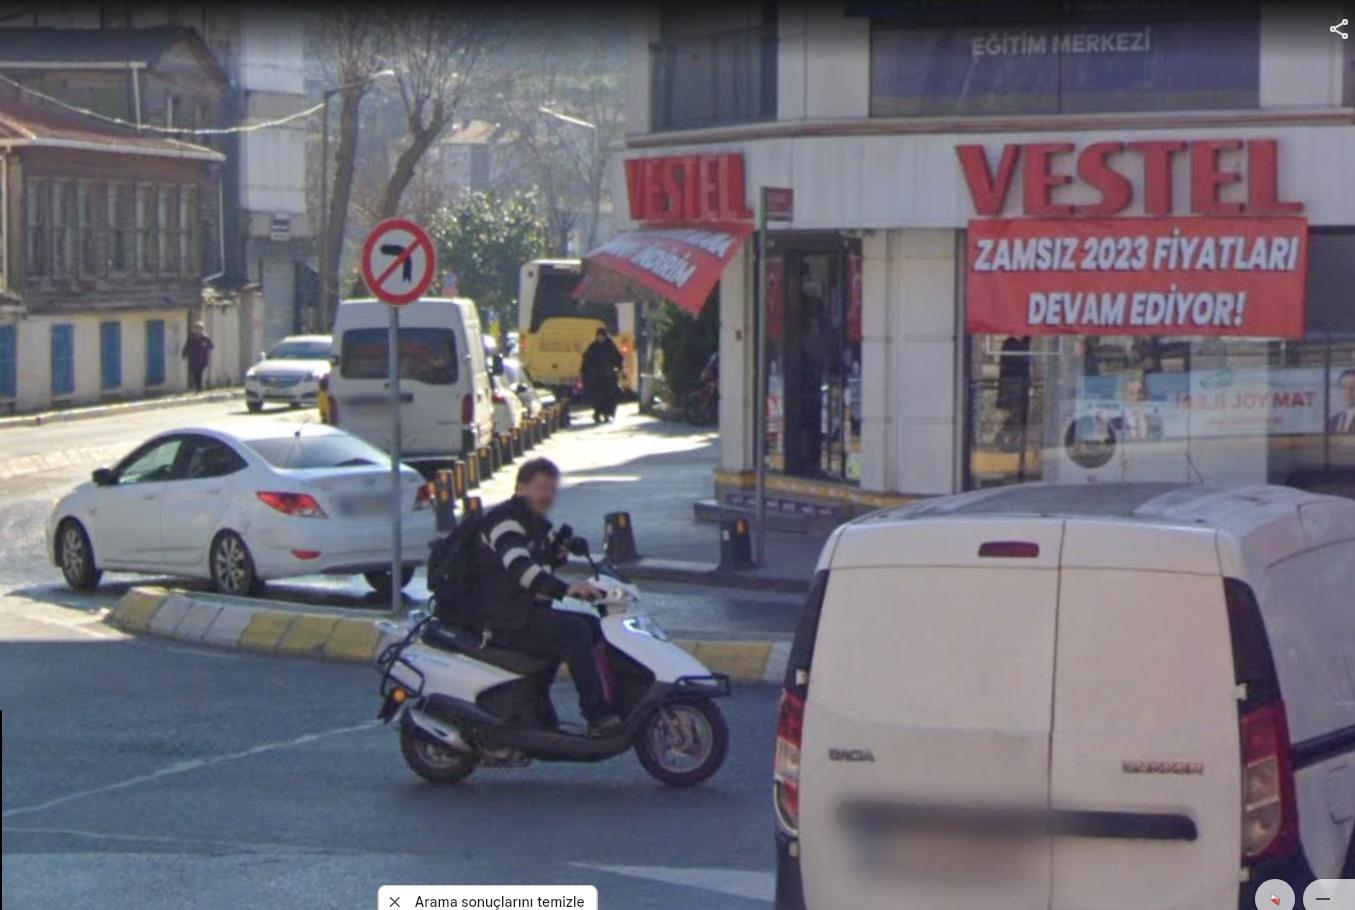leftturnsareforbidden: (364, 217, 432, 296)
